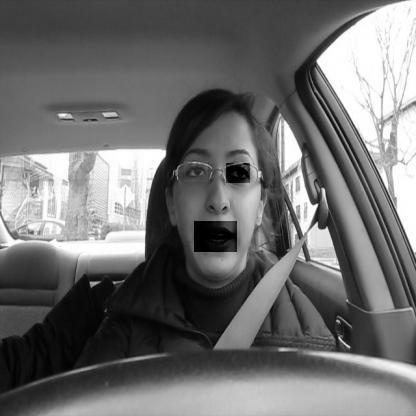seatbelt: (148, 84, 336, 354)
